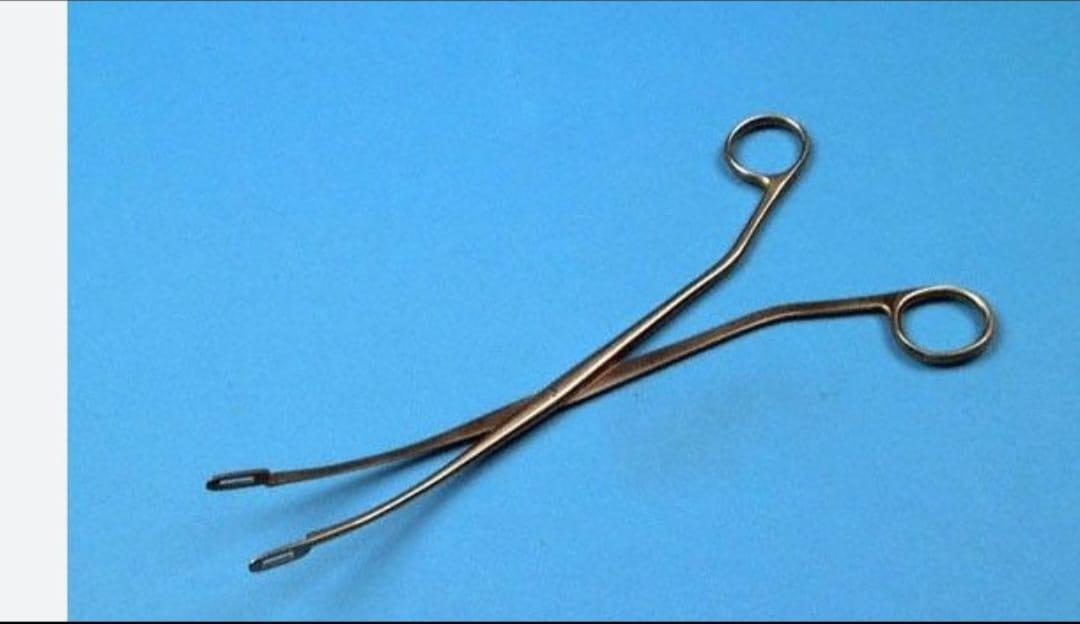Desjardin Forceps: (199, 104, 1007, 584)
